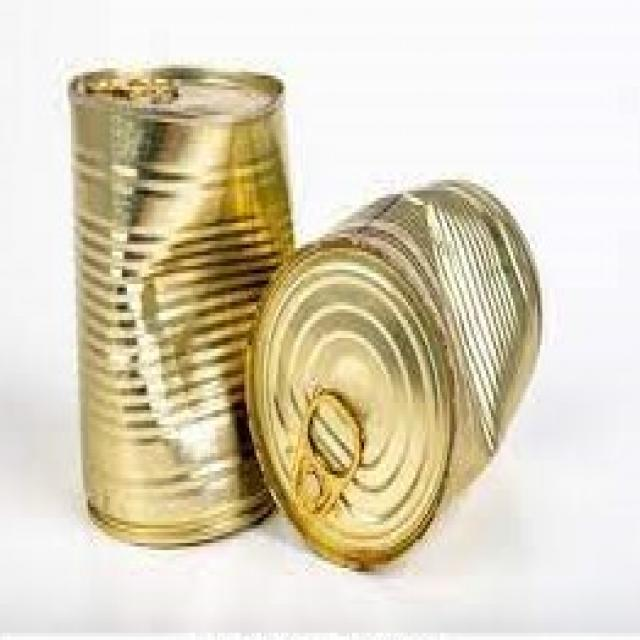metal-can: (248, 173, 551, 580), (63, 65, 299, 551)
